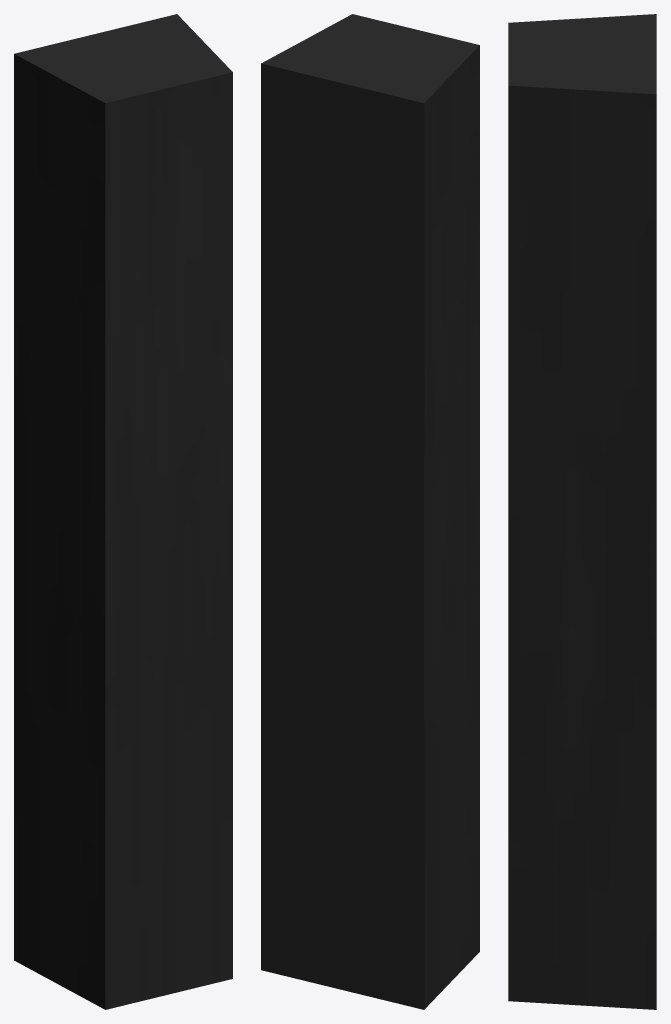
Rendered from SW_ENV_RailTunnel_WallEnd.fbx.
3 renders of one model, left to right at view 1: azimuth 30°, elevation 25°; view 2: azimuth 150°, elevation 25°; view 3: azimuth 270°, elevation 25°, orthographic.
Visible parts, largest first — view 1: SW_ENV_RailTunnel_WallEnd; view 2: SW_ENV_RailTunnel_WallEnd; view 3: SW_ENV_RailTunnel_WallEnd.
Boxes of the visible parts, left/top/right/bottom form: SW_ENV_RailTunnel_WallEnd: left=14, top=14, right=232, bottom=1009; SW_ENV_RailTunnel_WallEnd: left=261, top=14, right=479, bottom=1009; SW_ENV_RailTunnel_WallEnd: left=508, top=14, right=656, bottom=1009.
Bounding box in the file's own units: 80 × 425 × 62.5.
